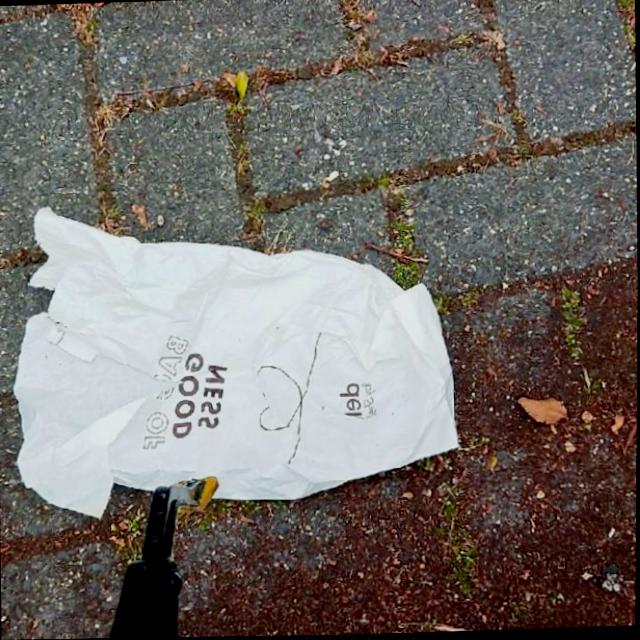Paper: (7, 192, 467, 523)
